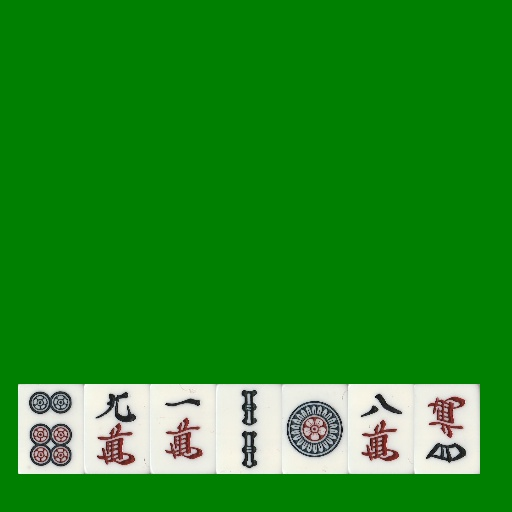1m: (150, 384, 216, 474)
1p: (282, 384, 348, 474)
2s: (216, 384, 282, 474)
4m: (414, 384, 480, 474)
6p: (18, 384, 84, 474)
8m: (348, 384, 414, 474)
9m: (84, 384, 150, 474)
